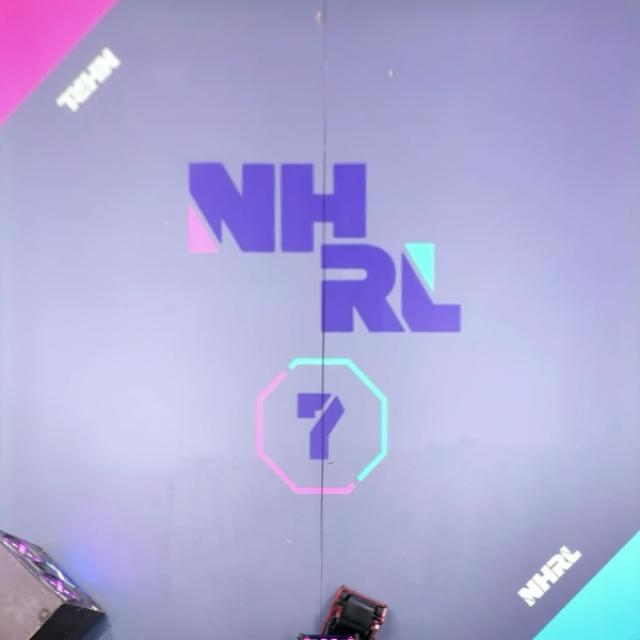housebot: (0, 527, 107, 640)
robot: (322, 584, 389, 640), (296, 632, 360, 640)
